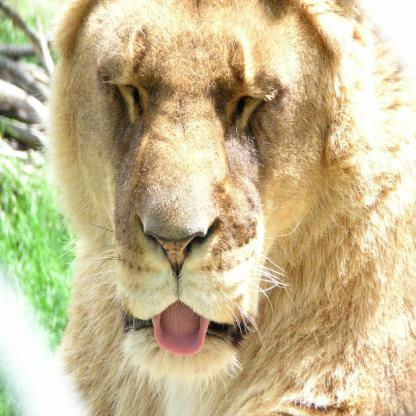lion: (48, 0, 321, 366)
